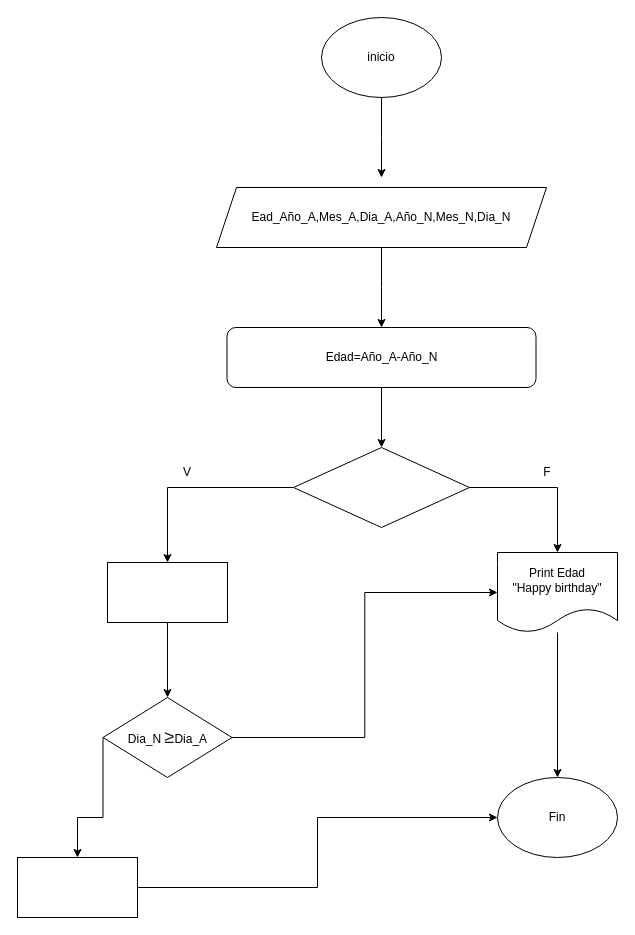
Image size: 635x935. Some labels were removed from this diagram. The shapes that lost their labels are listed below. From the top down, each one's centre as x and y in pixels, then its label:
the point at 381,487: Mes_N>Mes_A
the point at 167,592: No ha cumplido
the point at 77,887: No hs cumplido
